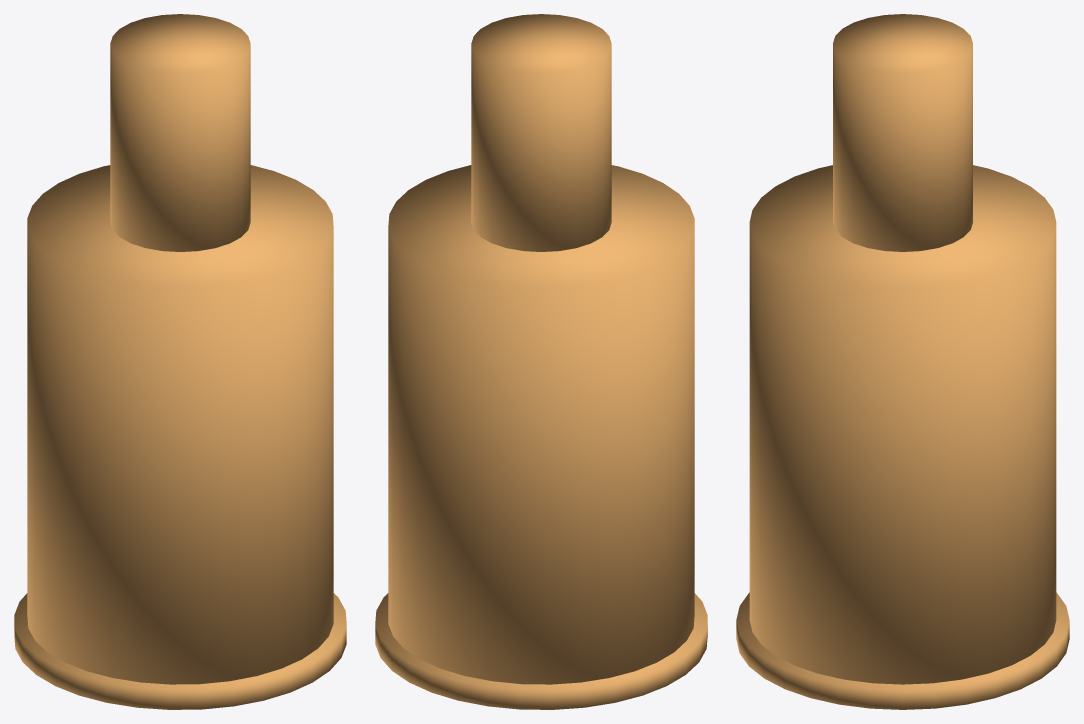
The model's file is nitrogen-gas-spring.glb.
3 views of the same model, side by side, from view 1: azimuth 30°, elevation 25°; view 2: azimuth 150°, elevation 25°; view 3: azimuth 270°, elevation 25° (orthographic).
Visible parts, largest first — view 1: model-nitrogen-gas-spring; view 2: model-nitrogen-gas-spring; view 3: model-nitrogen-gas-spring.
Part boxes in pixels (bbox=[...]): model-nitrogen-gas-spring: bbox=[14, 14, 346, 709]; model-nitrogen-gas-spring: bbox=[375, 14, 707, 709]; model-nitrogen-gas-spring: bbox=[736, 14, 1069, 709].
Bounding box in the file's own units: 0.76 × 1.5 × 0.76.
